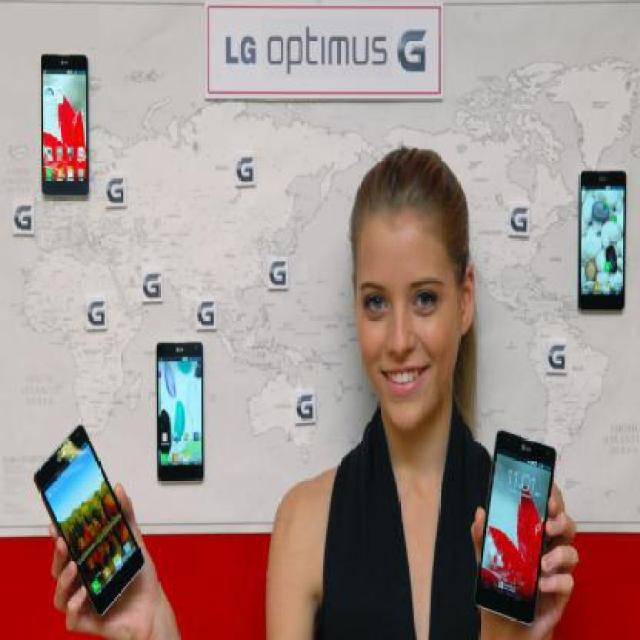Person: (54, 150, 578, 638)
